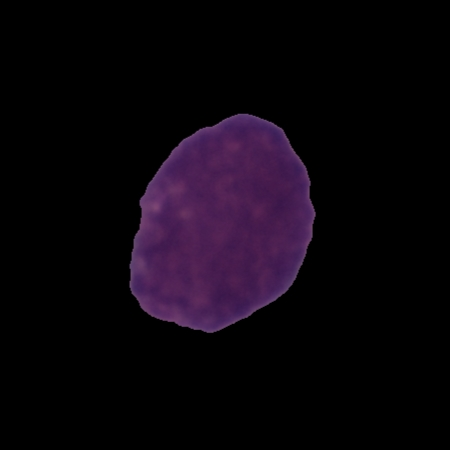HEM: (125, 110, 319, 337)
